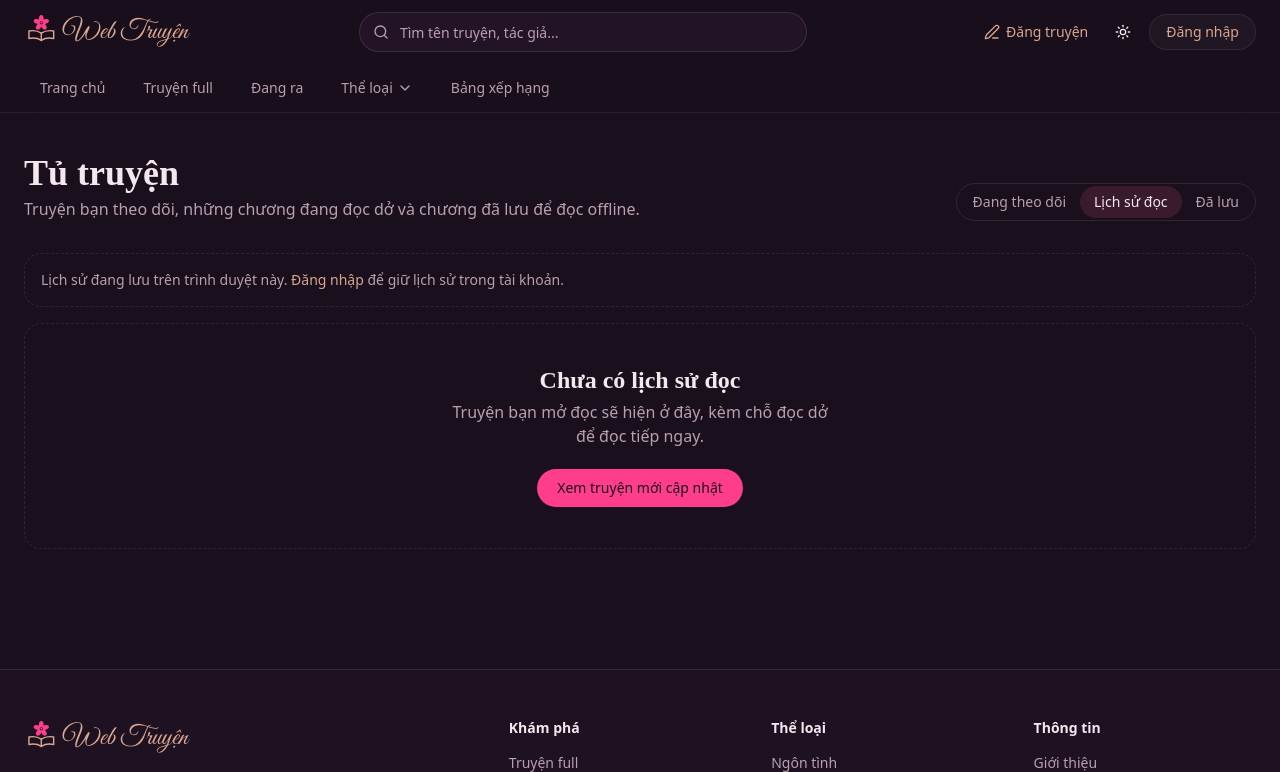
Test case: khách vào tủ truyện: mặc định xem lịch sử, tab theo dõi mời đăng nhập
The image size is (1280, 772).
Expected: the text "Chưa có lịch sử đọc" is shown, [540, 367, 740, 393]
Expected: the text "Lịch sử đang lưu trên trình duyệt này" is shown, [41, 270, 288, 289]
Click the link "Đang theo dõi": (1019, 202) [973, 192, 1066, 211]
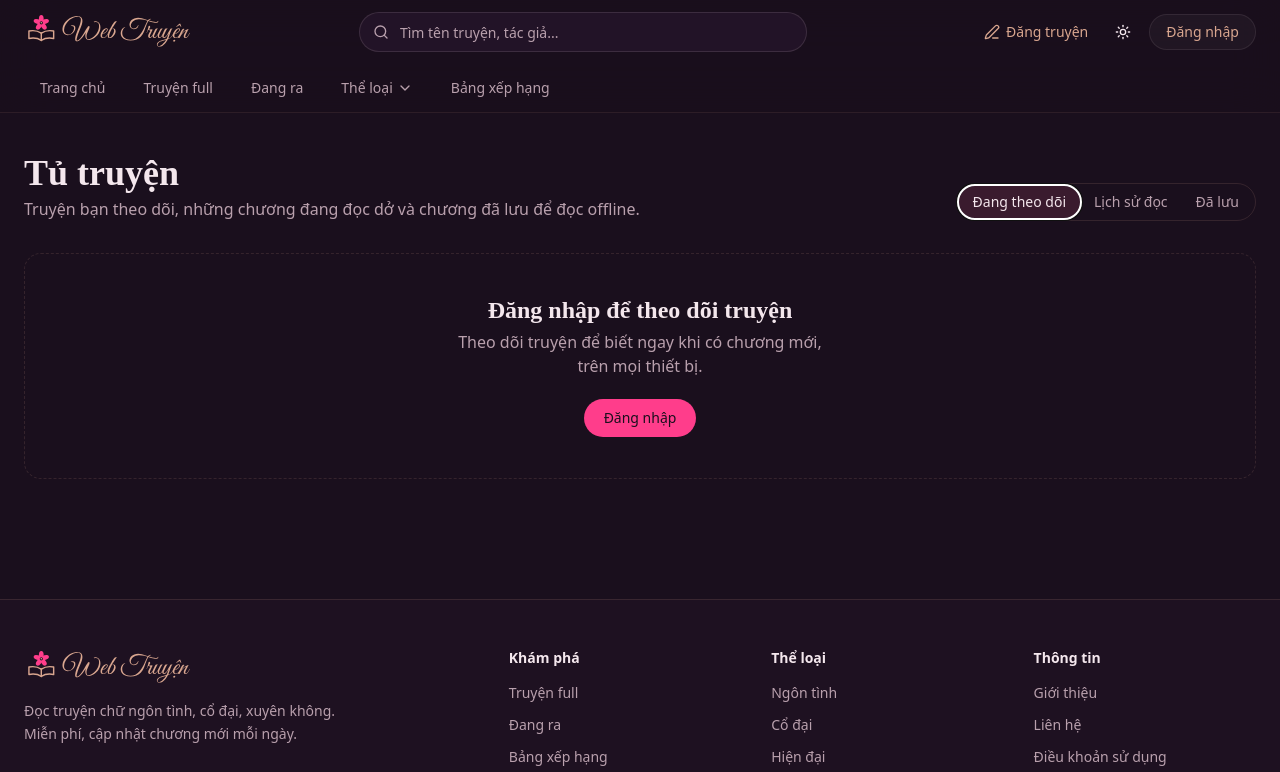
Result: the text "Đăng nhập để theo dõi truyện" is shown at [488, 297, 792, 323]
